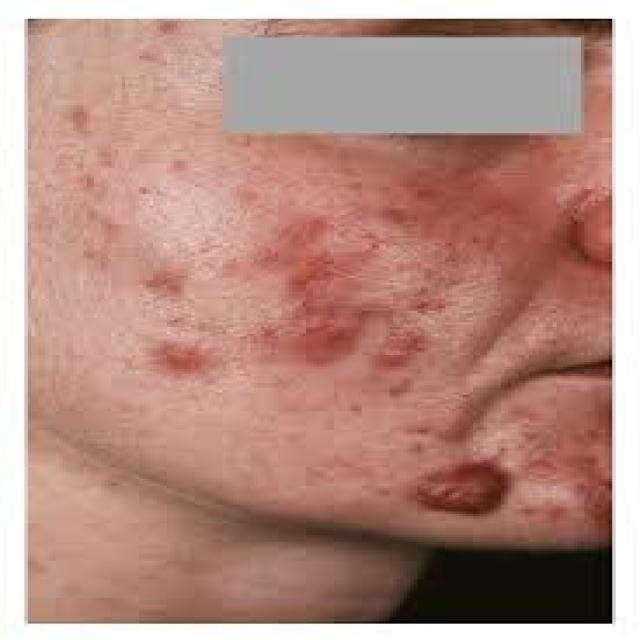Acne: (244, 161, 523, 526), (53, 103, 217, 381)
